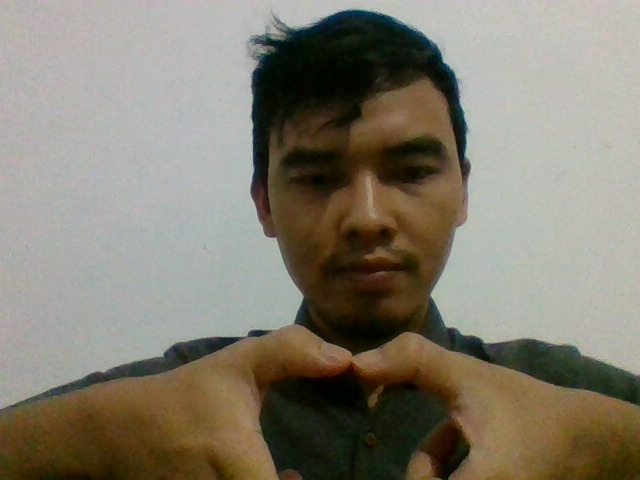iloveyou: (207, 312, 497, 480)
